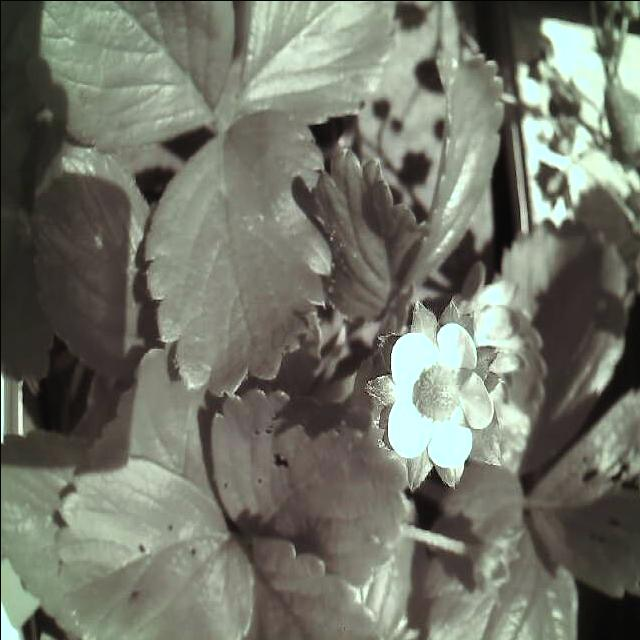flower: (374, 308, 504, 488)
